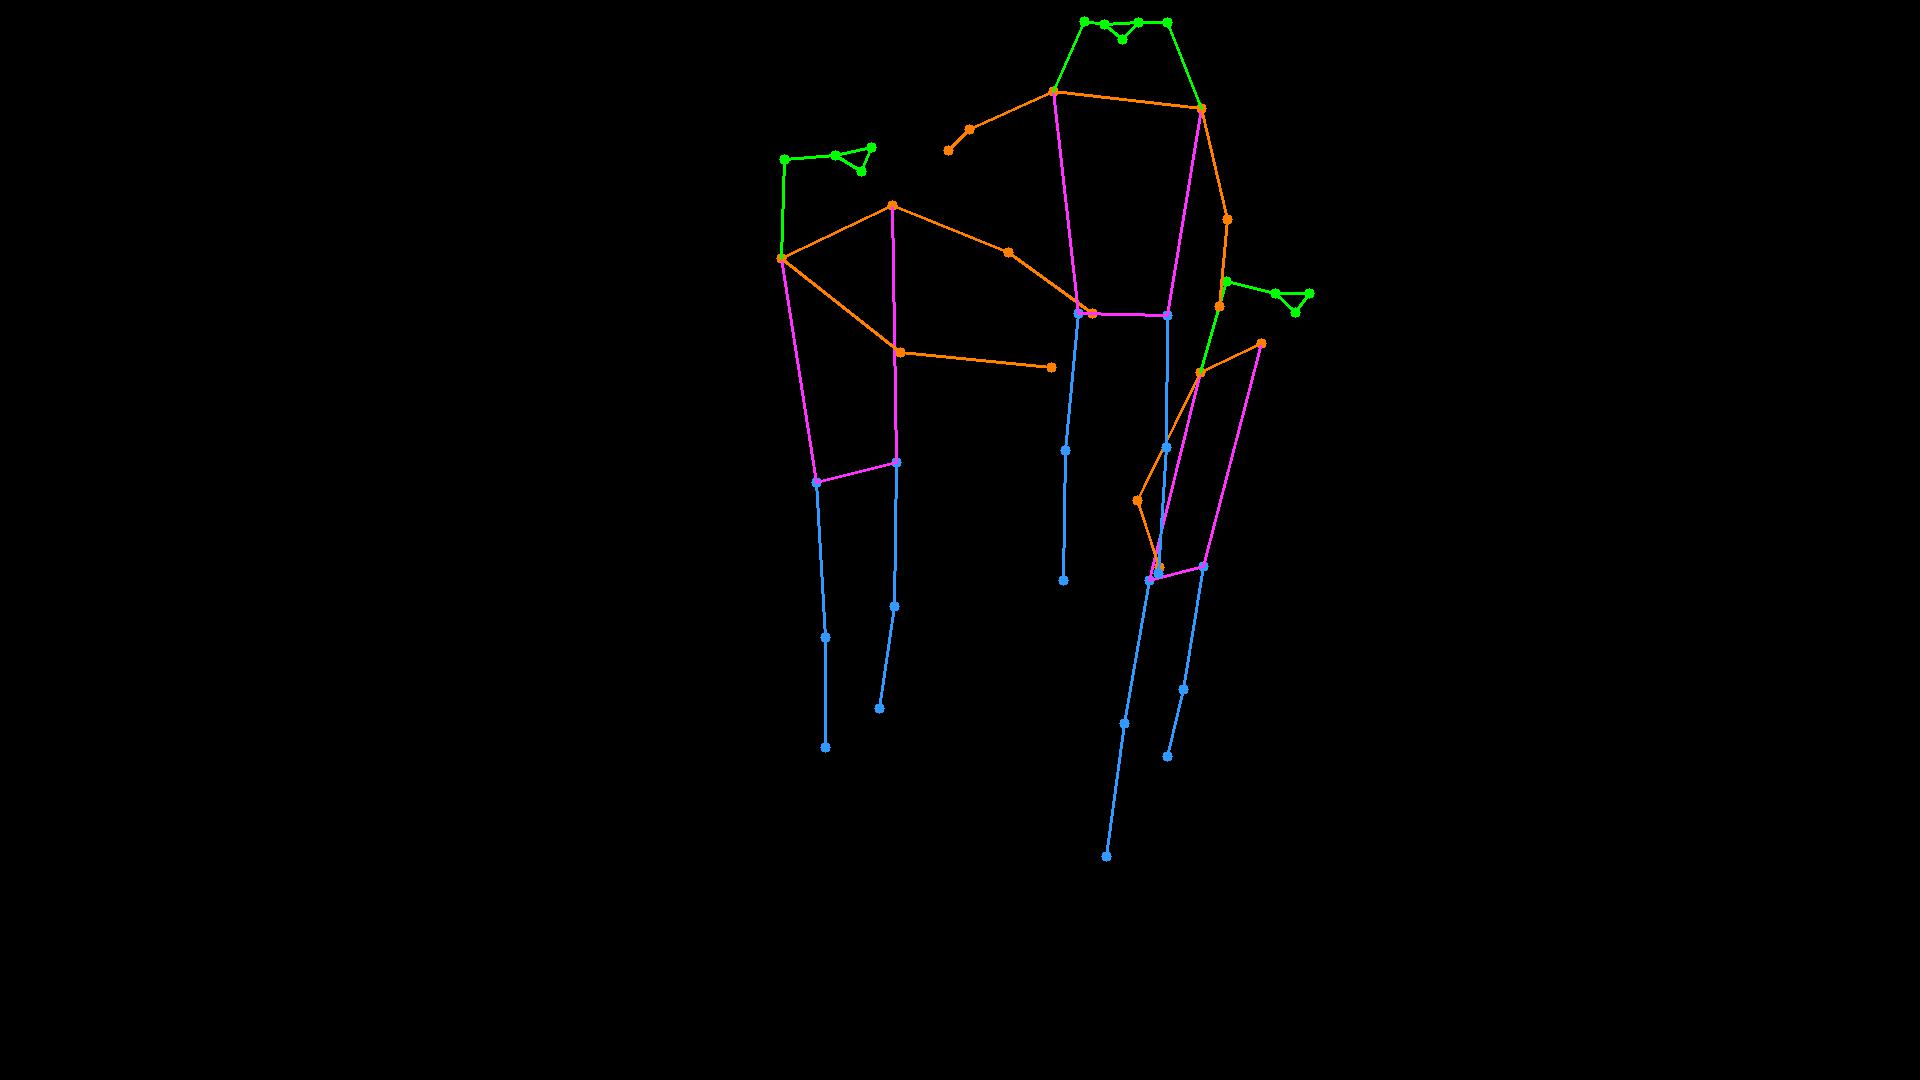normal: (680, 1, 1317, 897)
